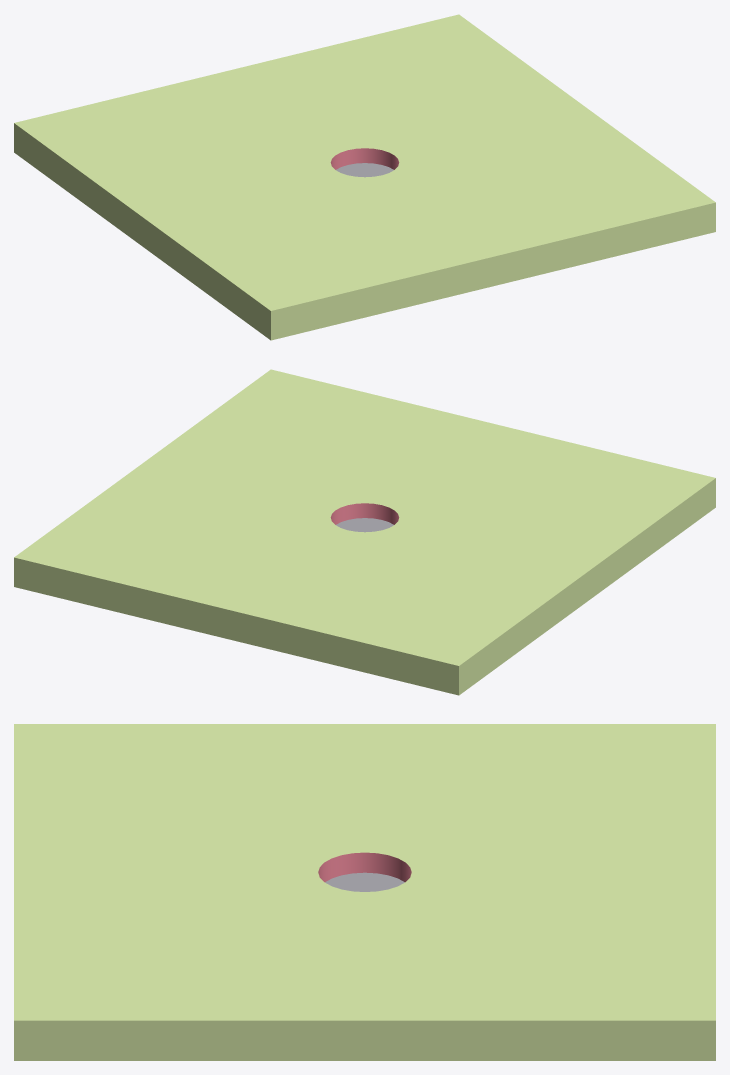
File: holeOpen.fbx
3 renders of one model, top to bottom at view 1: azimuth 30°, elevation 25°; view 2: azimuth 150°, elevation 25°; view 3: azimuth 270°, elevation 25°, orthographic. The views are drawn at different scales.
Parts seen in each view (by area): view 1: holeOpen; view 2: holeOpen; view 3: holeOpen.
Boxes of the visible parts, x1=… form: holeOpen: x1=14, y1=14, x2=715, y2=340; holeOpen: x1=14, y1=369, x2=715, y2=695; holeOpen: x1=14, y1=724, x2=715, y2=1060.
Size of the model in its own units: 99.99 by 6.33 by 99.99.
